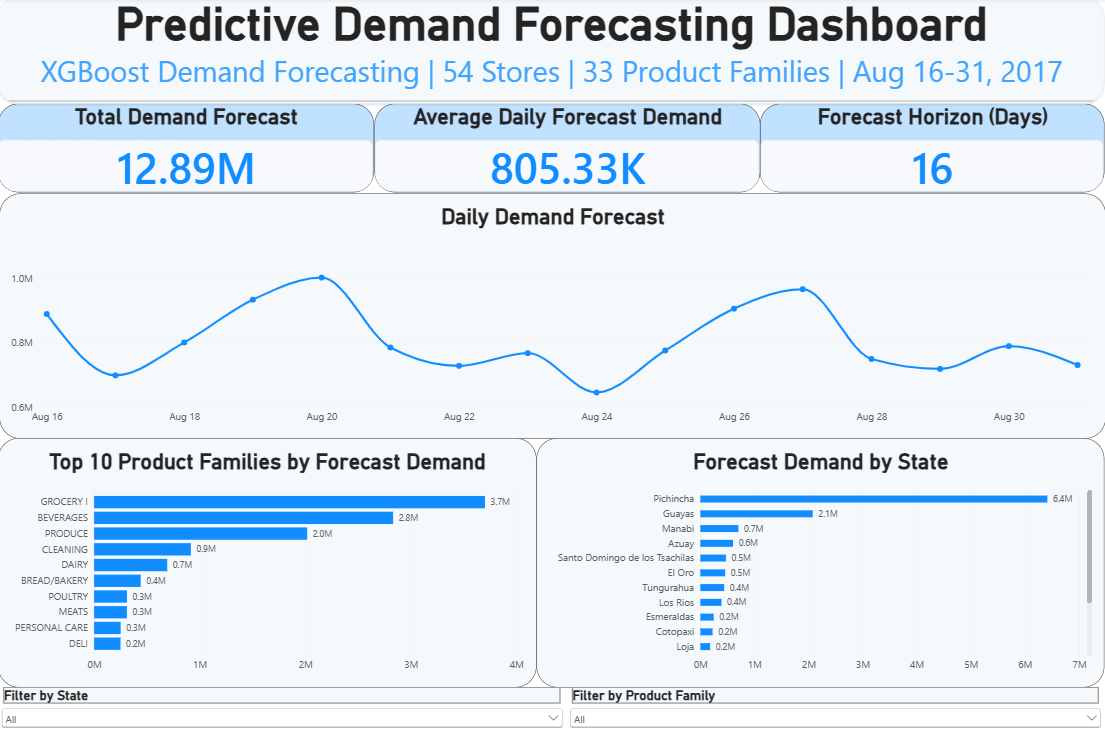

Layout of this report page (visuals, bound fields, positions):
{"tool":"powerbi","page":{"name":"Demand Forecast","canvas":[1920,1080],"ordinal":0},"visuals":[{"type":"lineChart","title":"Daily Demand Forecast","fields":{"Category":["vw_DailyForecast.forecast_date"],"Y":["Sum(vw_DailyForecast.total_predicted_sales)"]},"box":[161.6,280.6,1584.6,351.5],"z":0},{"type":"clusteredBarChart","title":"Top 10 Product Families by Forecast Demand","fields":{"Category":["vw_ForecastDetail.family"],"Y":["Sum(vw_ForecastDetail.predicted_sales)"]},"box":[158.7,632.1,771,357.2],"z":1000},{"type":"clusteredBarChart","title":"Forecast Demand by State","fields":{"Category":["vw_ForecastDetail.state"],"Y":["Sum(vw_ForecastDetail.predicted_sales)"]},"box":[929.8,632.1,813.5,357.2],"z":2000},{"type":"cardVisual","title":"Total Demand Forecast","fields":{"Data":["Sum(vw_ForecastDetail.predicted_sales)"]},"box":[158.7,153.1,538.6,127.6],"z":3000},{"type":"cardVisual","title":"Average Daily Forecast Demand","fields":{"Data":["vw_DailyForecast.Average Daily Forecast Demand"]},"box":[697.3,153.1,552.8,127.6],"z":4000},{"type":"cardVisual","title":"Forecast Horizon (Days)","fields":{"Data":["Count(vw_DailyForecast.forecast_date)"]},"box":[1250.1,153.1,493.2,127.6],"z":5000},{"type":"slicer","fields":{"Values":["vw_ForecastDetail.state"]},"box":[158.7,989.3,813.3,75],"z":6000},{"type":"slicer","fields":{"Values":["vw_ForecastDetail.family"]},"box":[972.3,989.3,770,75],"z":7000},{"type":"textbox","box":[1753,0,167,280],"z":8000},{"type":"textbox","title":"Predictive Demand Forecasting Dashboard","box":[158.7,0,1584.6,153.1],"z":9000}]}

Visuals, with their boxes on the page's 1920x1080 design canvas (x1, y1, x2, y2). These are canvas units, not pixel positions in the 1105x736 screenshot, which may show the page scaled, cropped or inside an application window:
"Daily Demand Forecast" lineChart: rect(162, 281, 1746, 632)
"Top 10 Product Families by Forecast Demand" clusteredBarChart: rect(159, 632, 930, 989)
"Forecast Demand by State" clusteredBarChart: rect(930, 632, 1743, 989)
"Total Demand Forecast" cardVisual: rect(159, 153, 697, 281)
"Average Daily Forecast Demand" cardVisual: rect(697, 153, 1250, 281)
"Forecast Horizon (Days)" cardVisual: rect(1250, 153, 1743, 281)
slicer - vw_ForecastDetail.state: rect(159, 989, 972, 1064)
slicer - vw_ForecastDetail.family: rect(972, 989, 1742, 1064)
textbox: rect(1753, 0, 1920, 280)
"Predictive Demand Forecasting Dashboard" textbox: rect(159, 0, 1743, 153)
